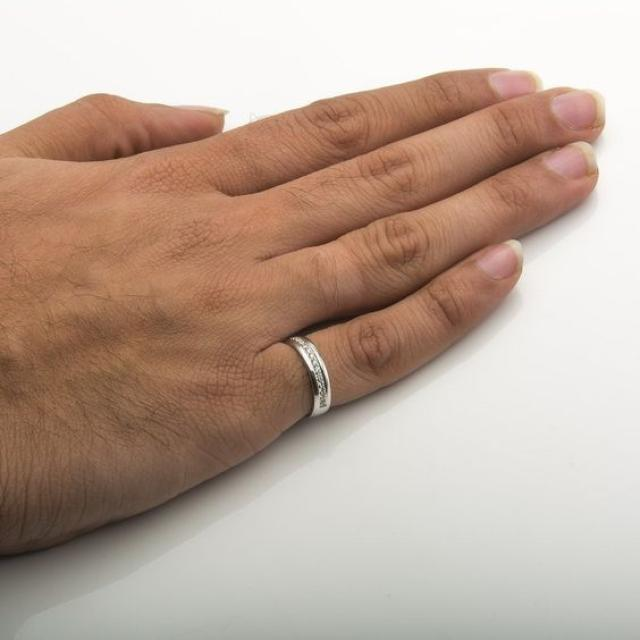Fingernail: (540, 141, 597, 185), (552, 87, 605, 132), (475, 239, 522, 281), (492, 70, 540, 100)
